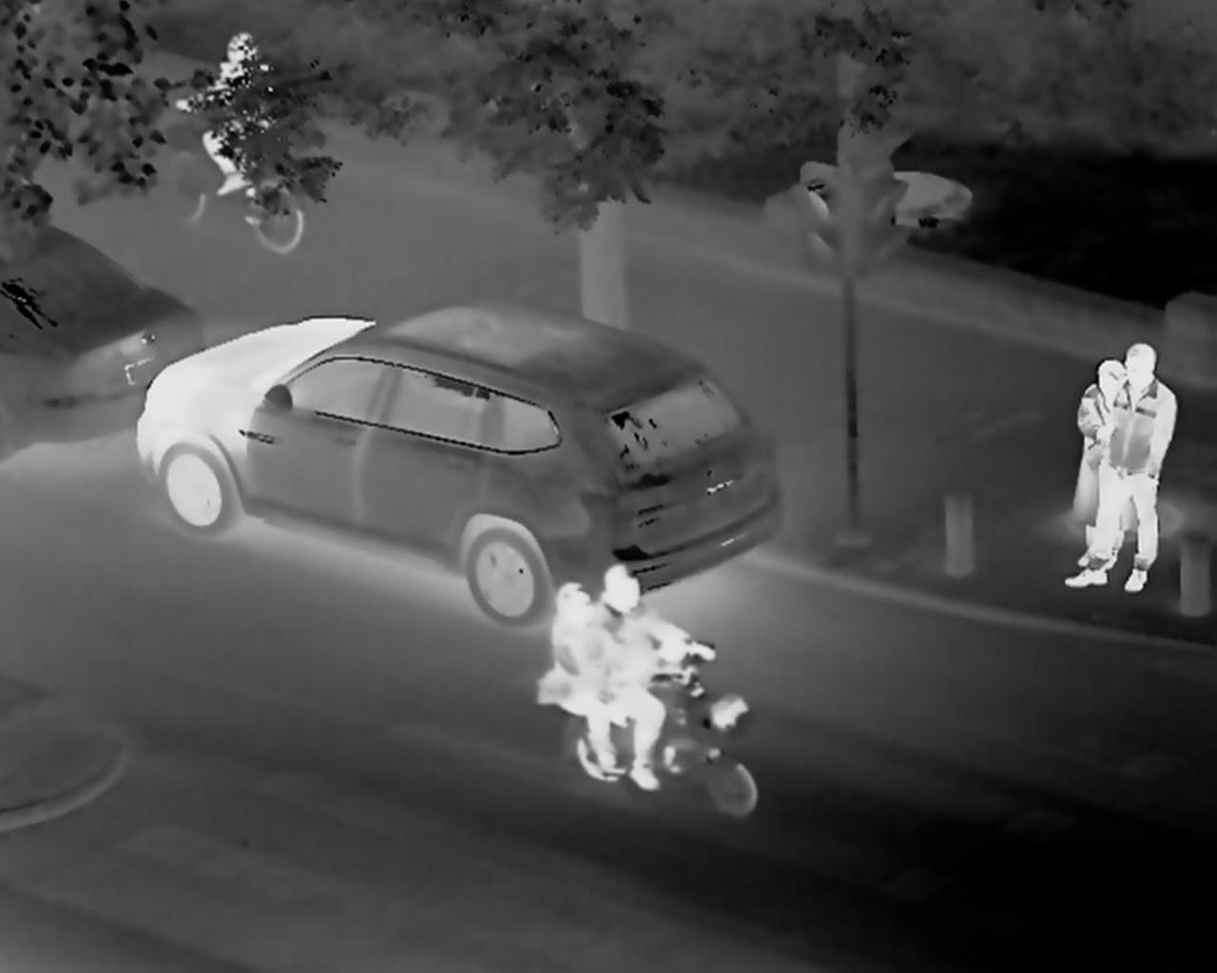person: (599, 572, 682, 799), (1100, 346, 1169, 599), (539, 575, 591, 707), (1085, 348, 1106, 514)
